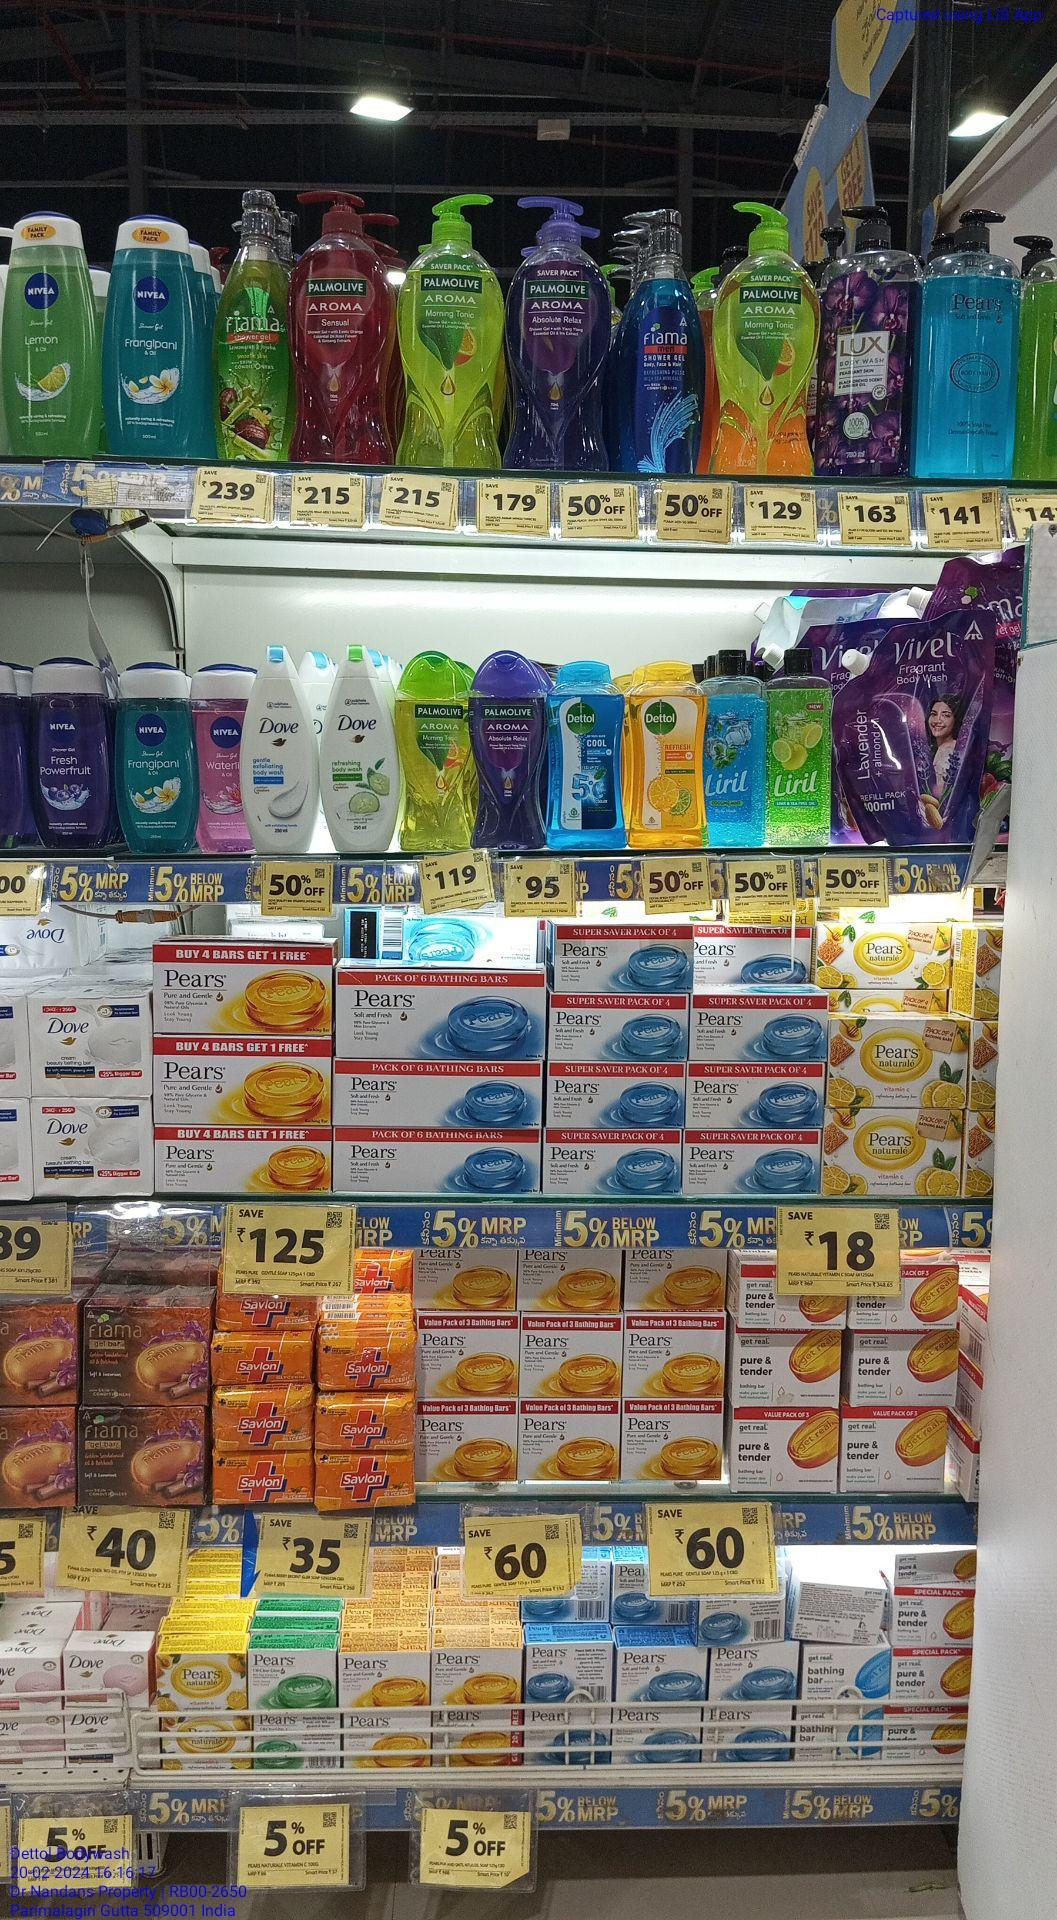Dettol_Bodywash_Cool: (548, 660, 625, 847)
Dettol_Bodywash_Refresh: (631, 661, 703, 847)
Dove_Gentle_Exfoliating_Body_Wash_250ML: (241, 643, 319, 854)
Dove_Refreshing_Body_Wash_250ML: (322, 646, 396, 853)
Liril_Cooling_Mint_Body_Wash_250ML: (706, 648, 763, 825)
Liril_Lime_and_Tea_Tree_Oil_Body_Wash_250ML: (768, 643, 832, 827)
Nivea_Shower_Gel_Frangipani_and_Oil_250ML: (108, 213, 202, 454), (116, 660, 198, 851)
Nivea_Shower_Gel_Fresh_Powerfruit_250ML: (31, 659, 111, 849)
Nivea_Shower_Gel_Lemon_and_Oil_250ML: (1, 211, 103, 456)
Palmolive_Aroma_Morning_Tonic_Shower_Gel_250ML: (400, 648, 467, 850)
Palmolive_Aroma_Relax_250ML: (473, 648, 542, 851)
